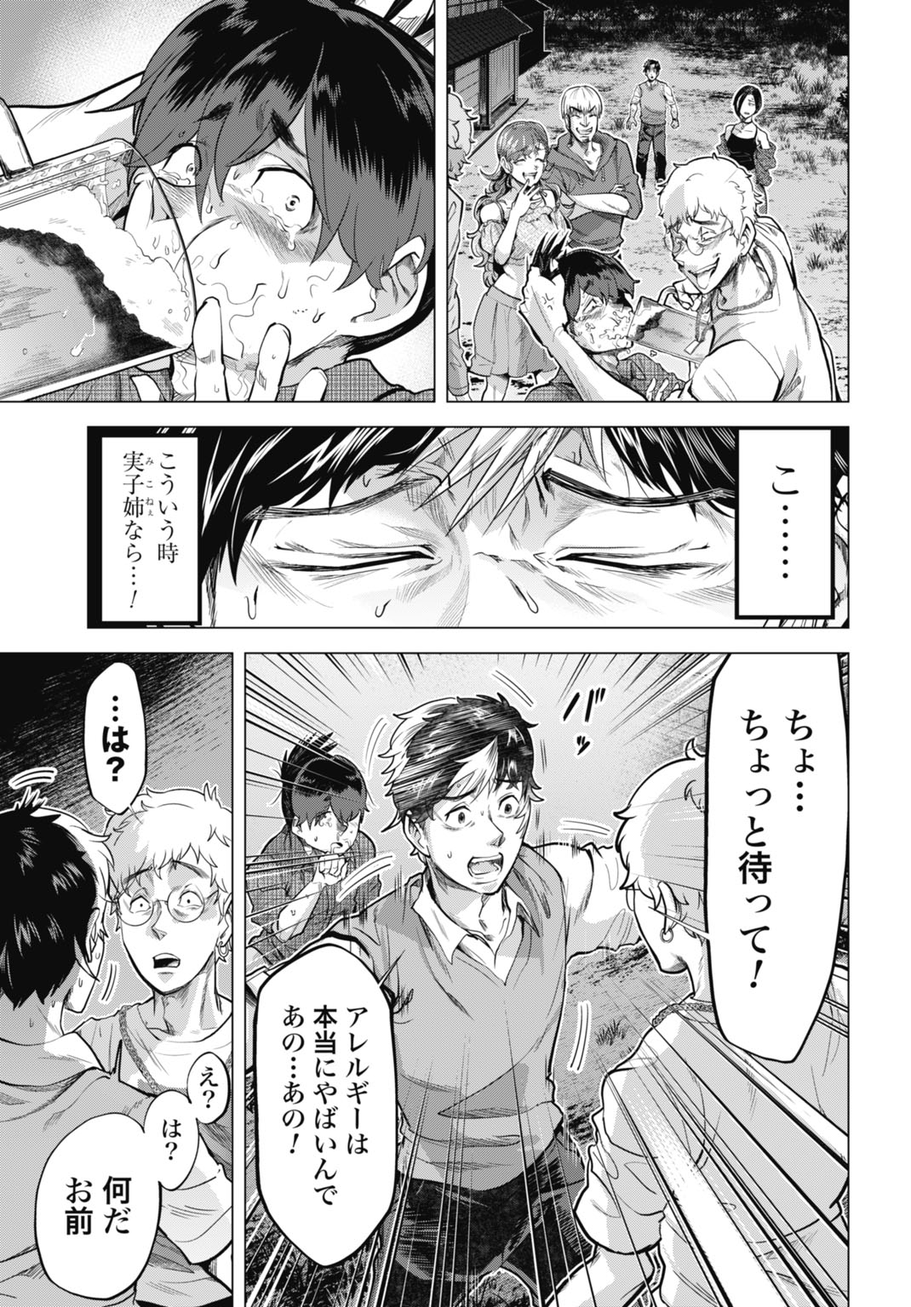bubbles: (696, 653, 849, 1071), (251, 938, 435, 1273), (32, 1047, 231, 1300), (99, 434, 208, 630), (734, 428, 838, 622), (74, 656, 165, 822)
